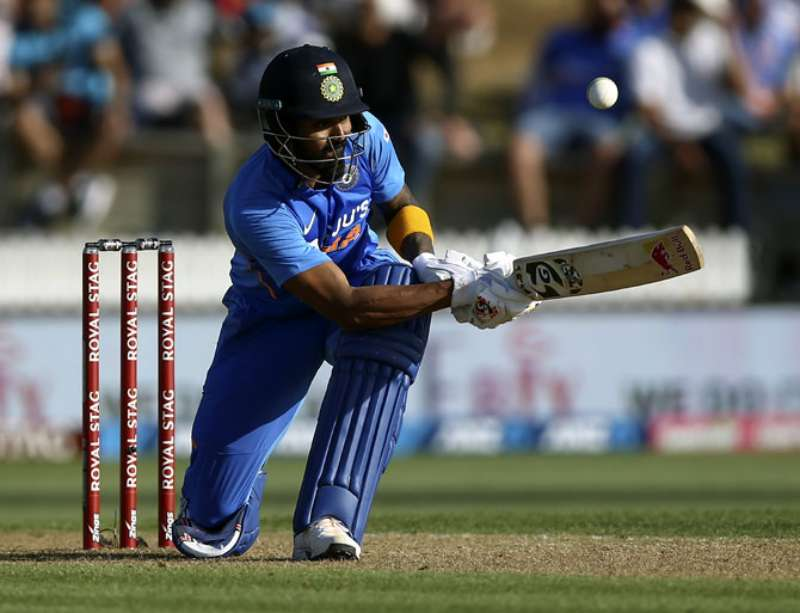Sweepshot: (27, 21, 716, 564)
